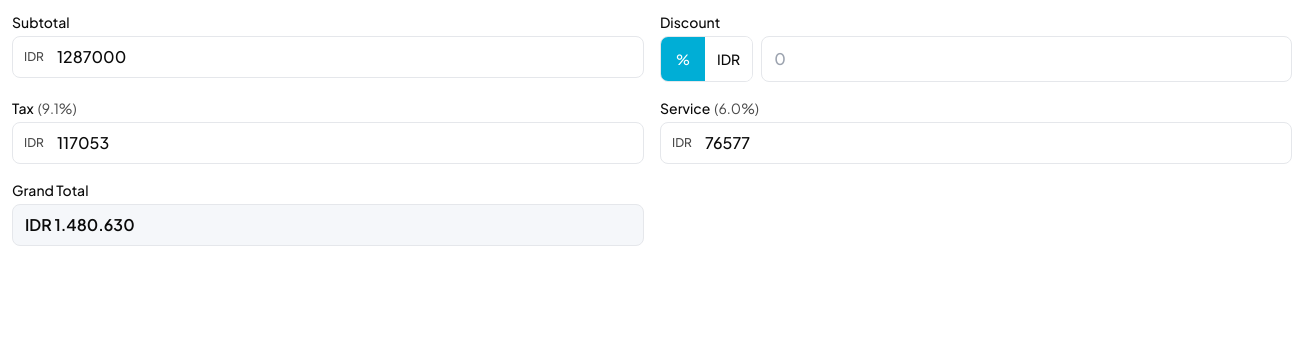
Test: TaxServiceInput › disables saving while the discount is invalid
Type "120" into the number field labelled "Discount".
click(1027, 59); type("120")  # box [761,36,1292,82]
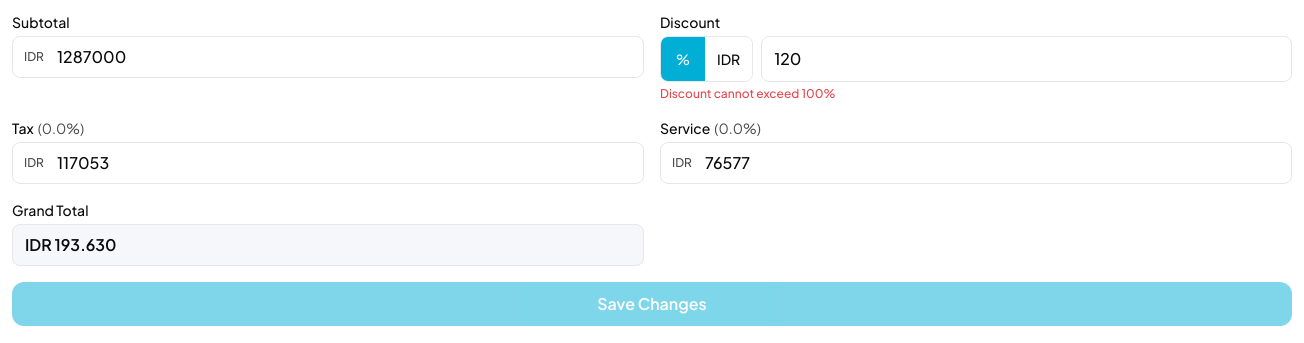
Result: the text "Discount cannot exceed 100%" is shown at [660,86,835,101]
Result: the button "Save Changes" is disabled at [12,282,1292,326]
